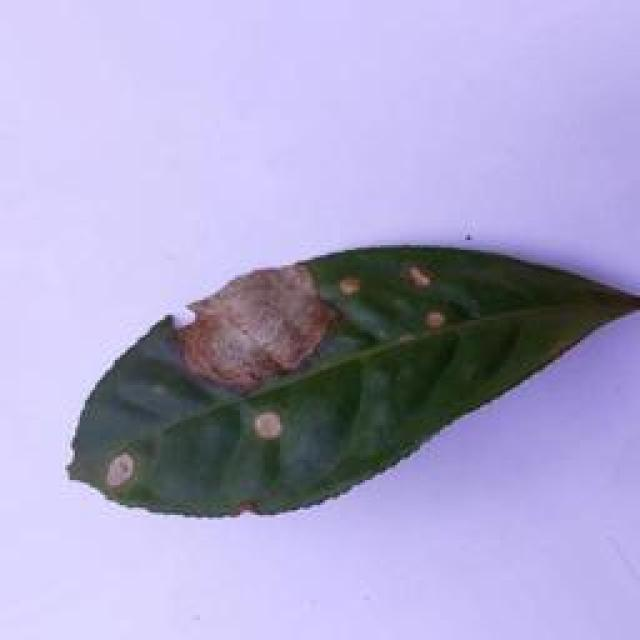Gray Blight: (54, 241, 640, 514)
